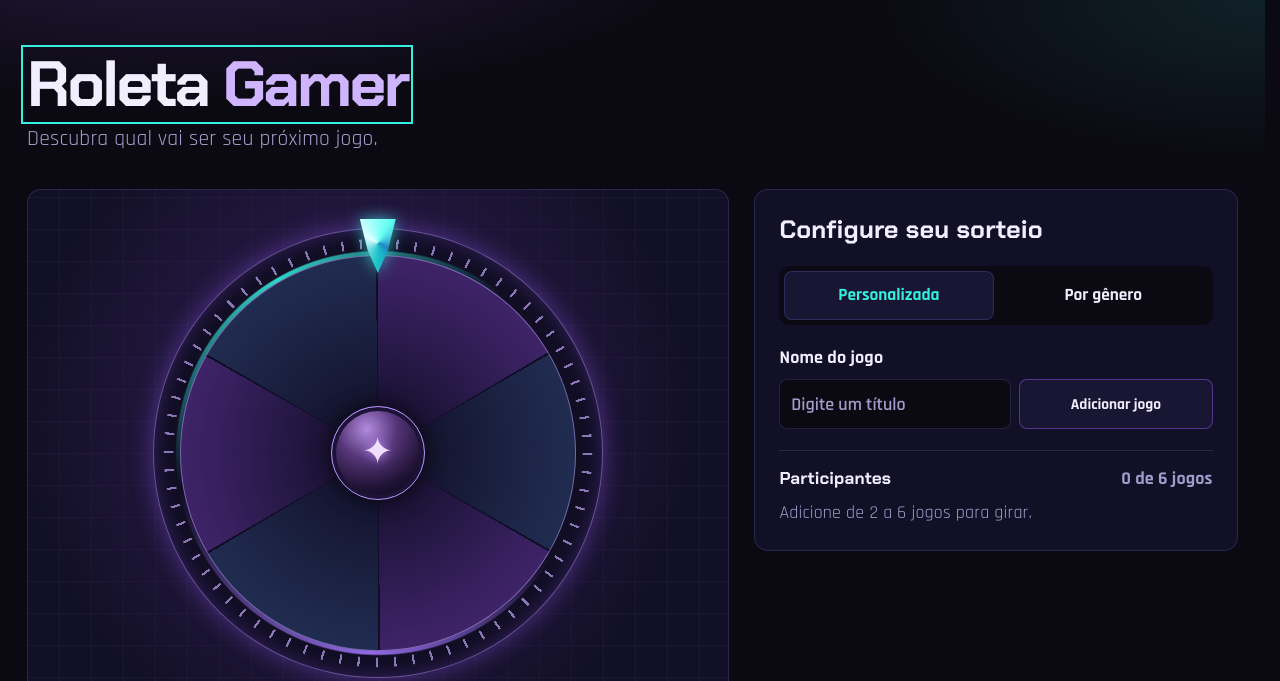
Scenario: consulta o gênero, pagina quando necessário, filtra duplicatas e reutiliza a lista
Later steps or results of the test are not shown.
Click the button "Por gênero" at (1103, 295), box [998, 270, 1208, 320]
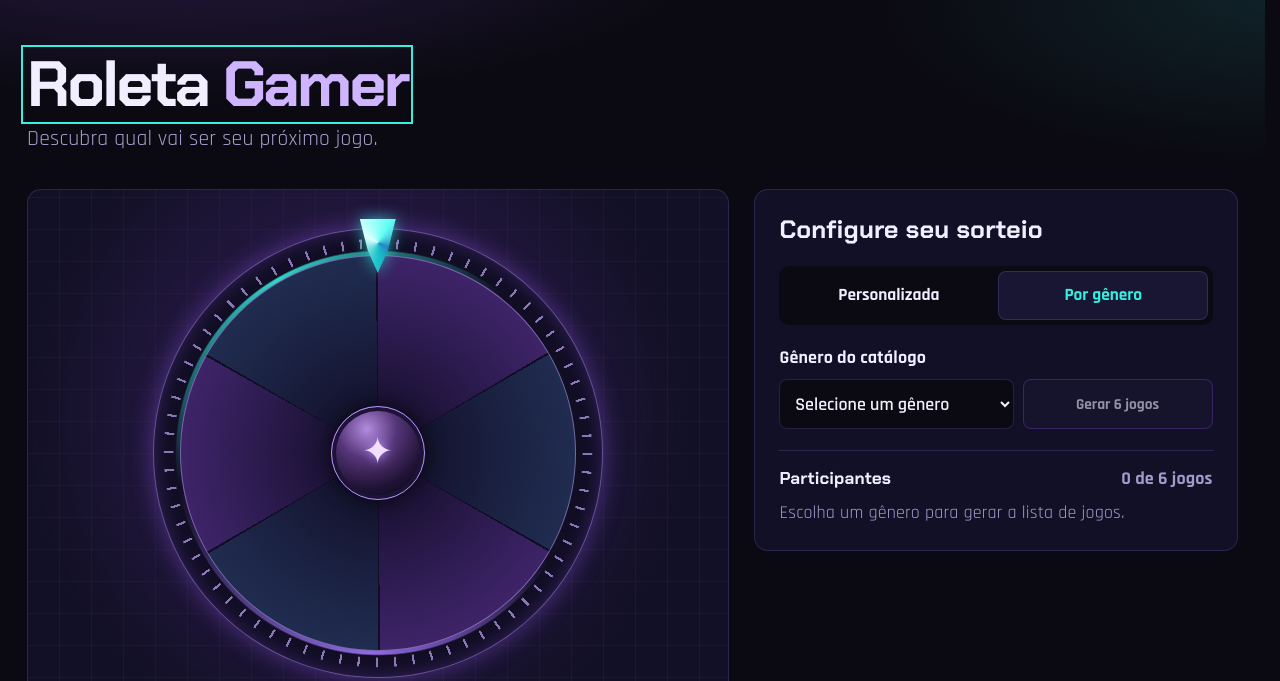
Select "RPG" in the dropdown labelled "Gênero do catálogo" at (897, 404), box [780, 379, 1014, 429]
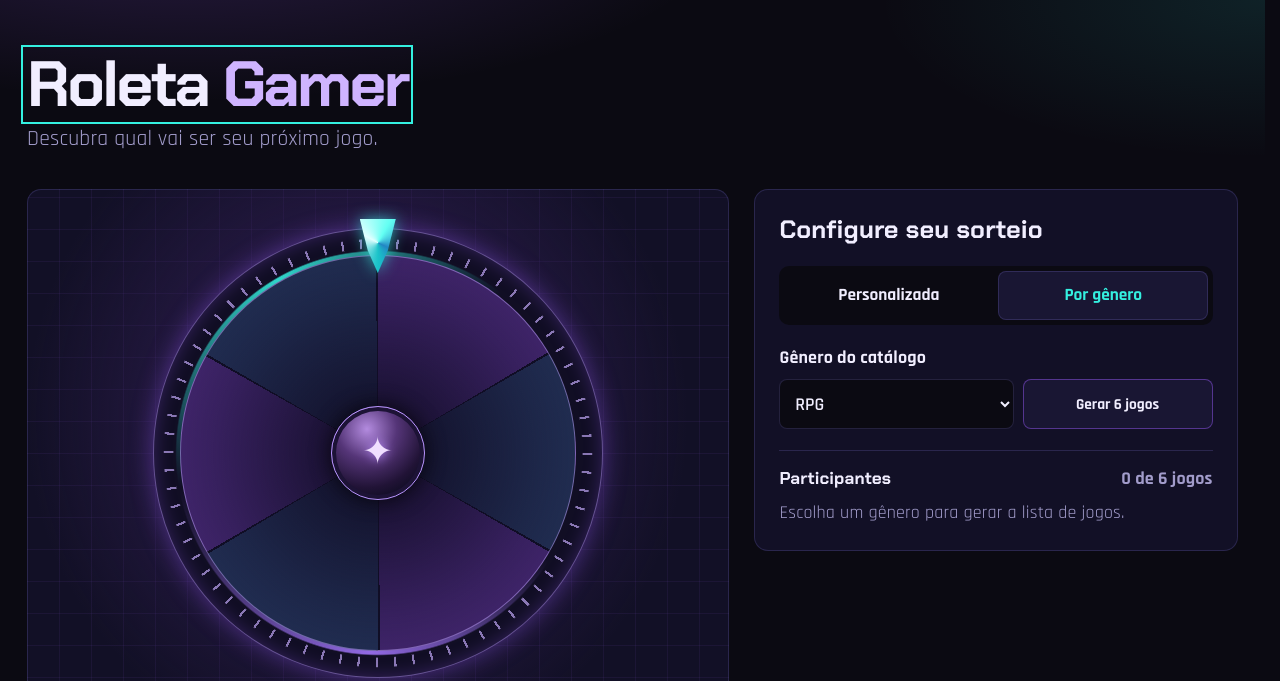
Click the button "Gerar 6 jogos" at (1118, 404), box [1022, 379, 1213, 429]
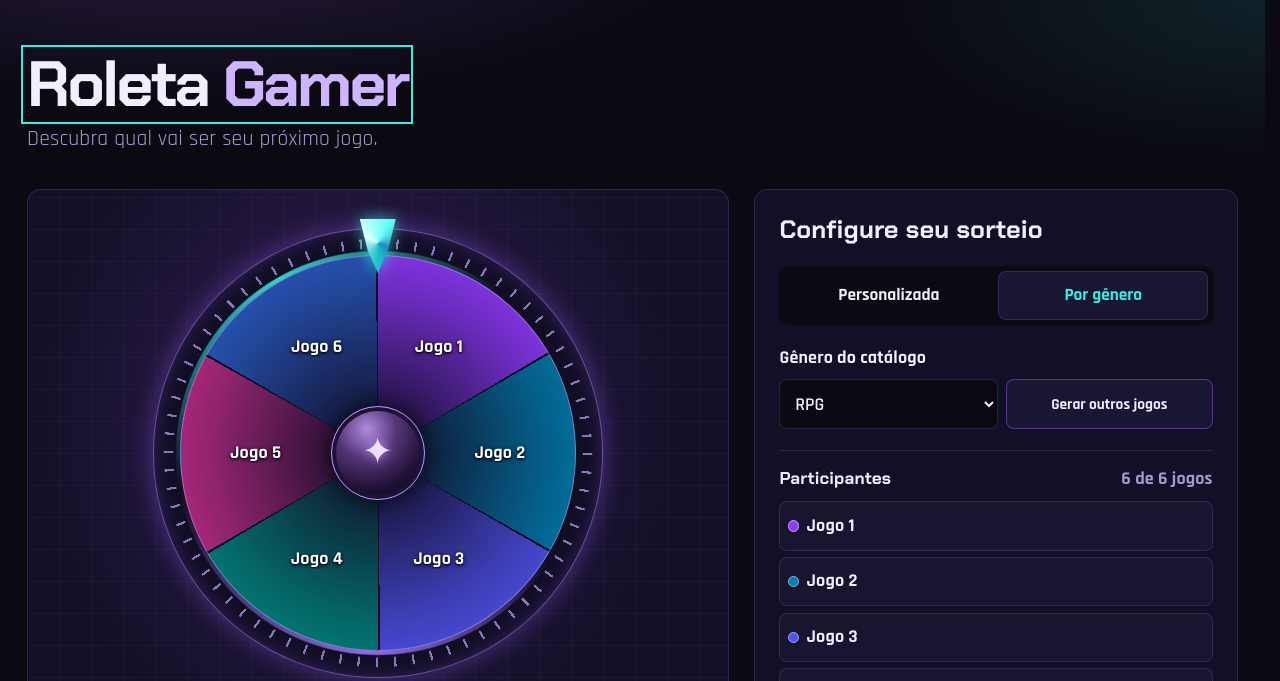
Now the text "6 de 6 jogos" is shown, box [1121, 466, 1213, 492]
Click the button "Personalizada" at (889, 295), box [784, 270, 994, 320]
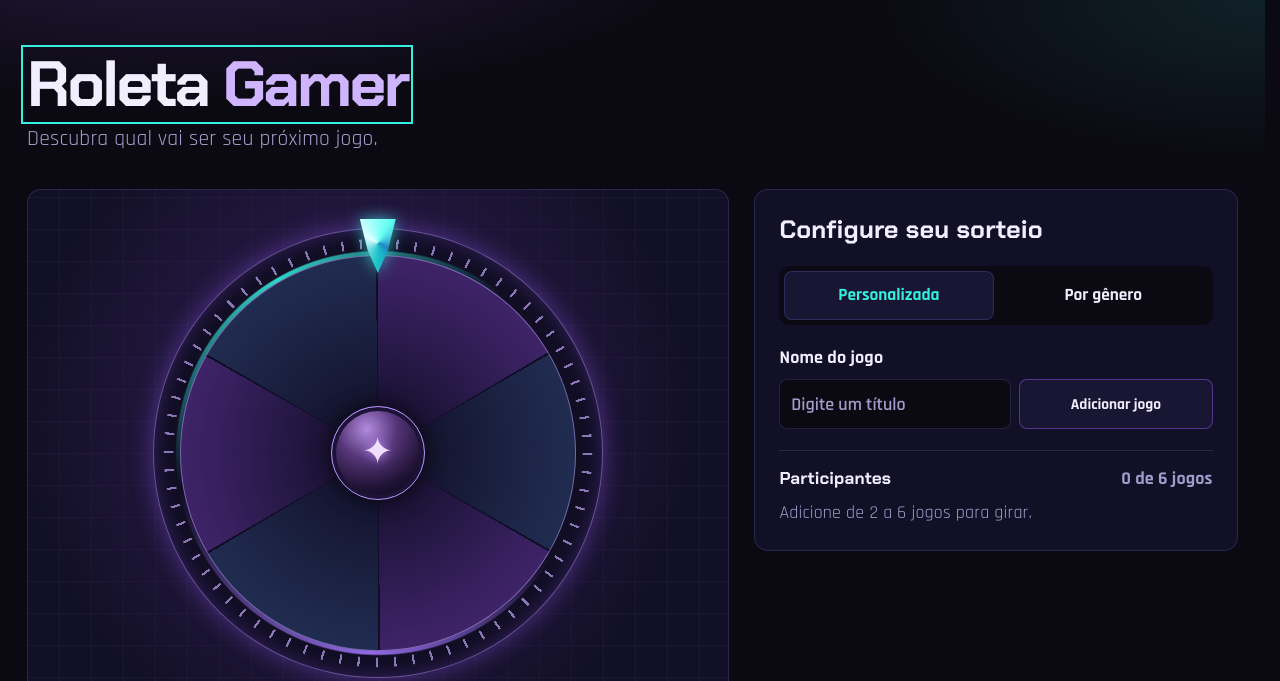
Click the button "Por gênero" at (1103, 295), box [998, 270, 1208, 320]
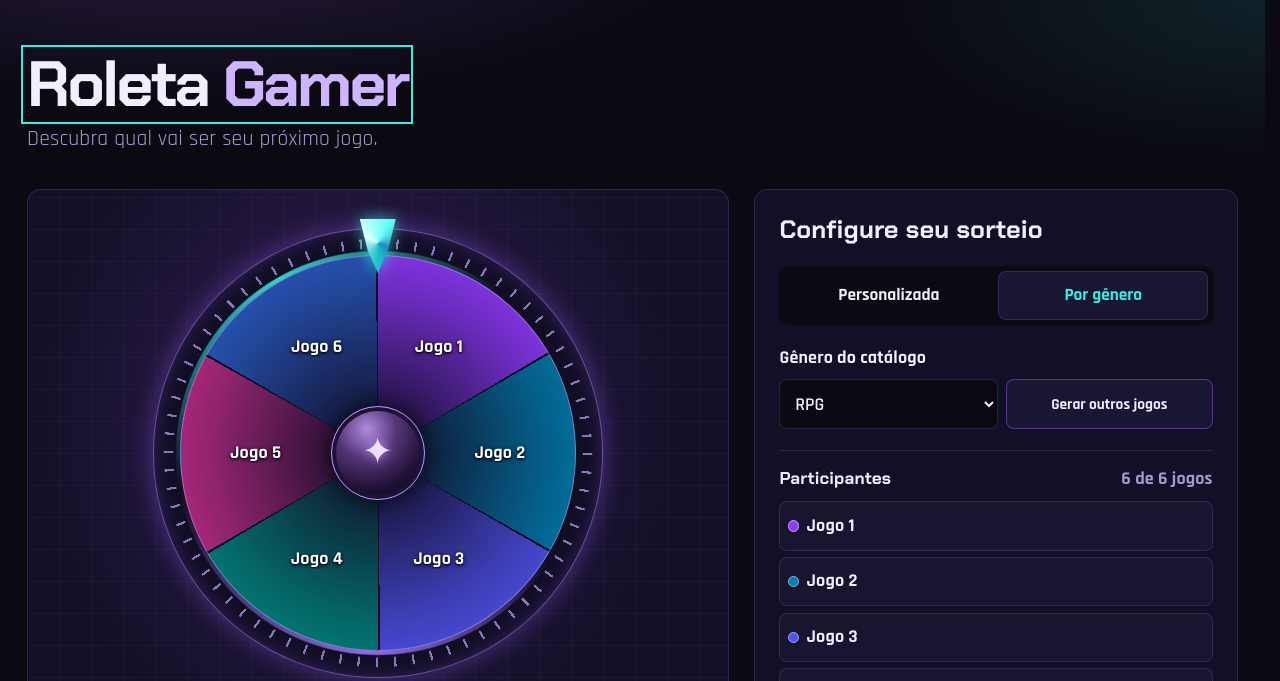
Now the dropdown shows "RPG", box [780, 379, 998, 429]
